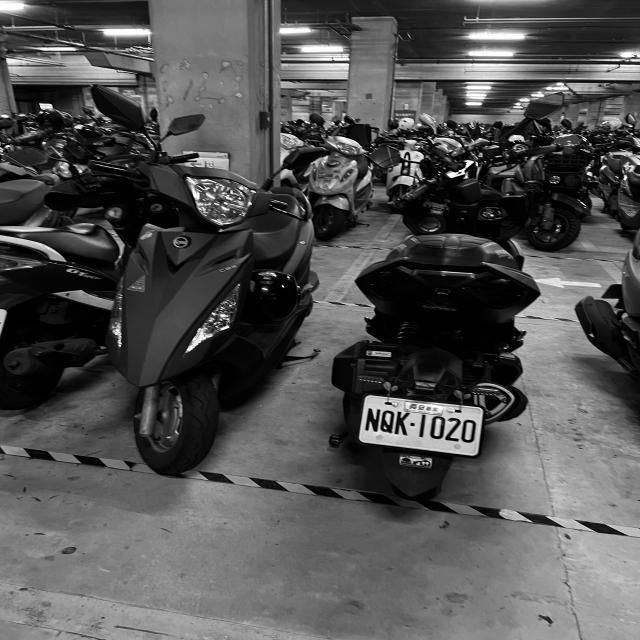-: (410, 421, 414, 427)
0: (460, 418, 478, 444), (429, 415, 447, 441)
1: (417, 413, 428, 438)
2: (443, 417, 463, 443)
K: (394, 410, 410, 436)
N: (365, 409, 382, 432)
Q: (381, 409, 393, 434)
plate: (362, 398, 482, 452)
